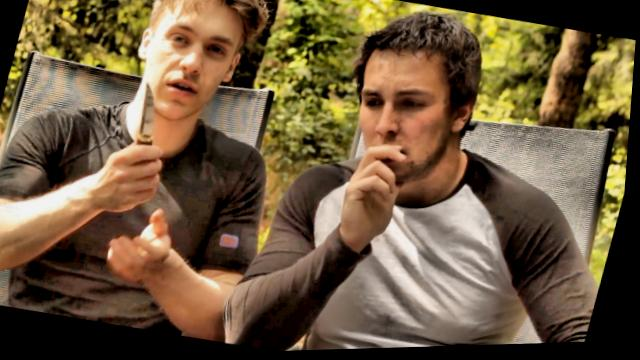knife: (117, 75, 187, 177)
